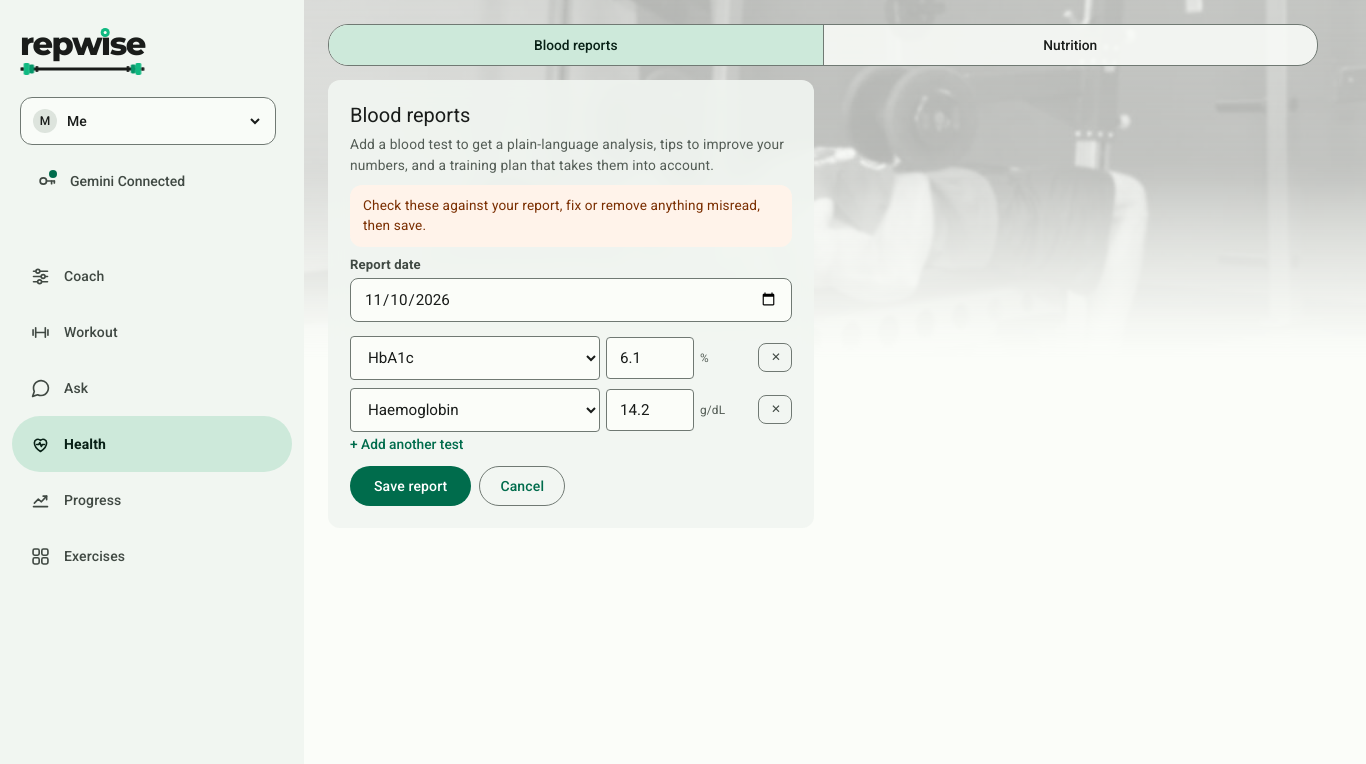
Health tab › upload a PDF, review it, then run the AI analysis; results and doctor questions are saved with the report
The width and height of the screenshot is (1366, 764).
Earlier steps of the test are not shown.
Expected: the text "Check these against your report" is shown, [363, 197, 760, 233]
Click the button "Save report" at (411, 486), box [350, 466, 471, 506]
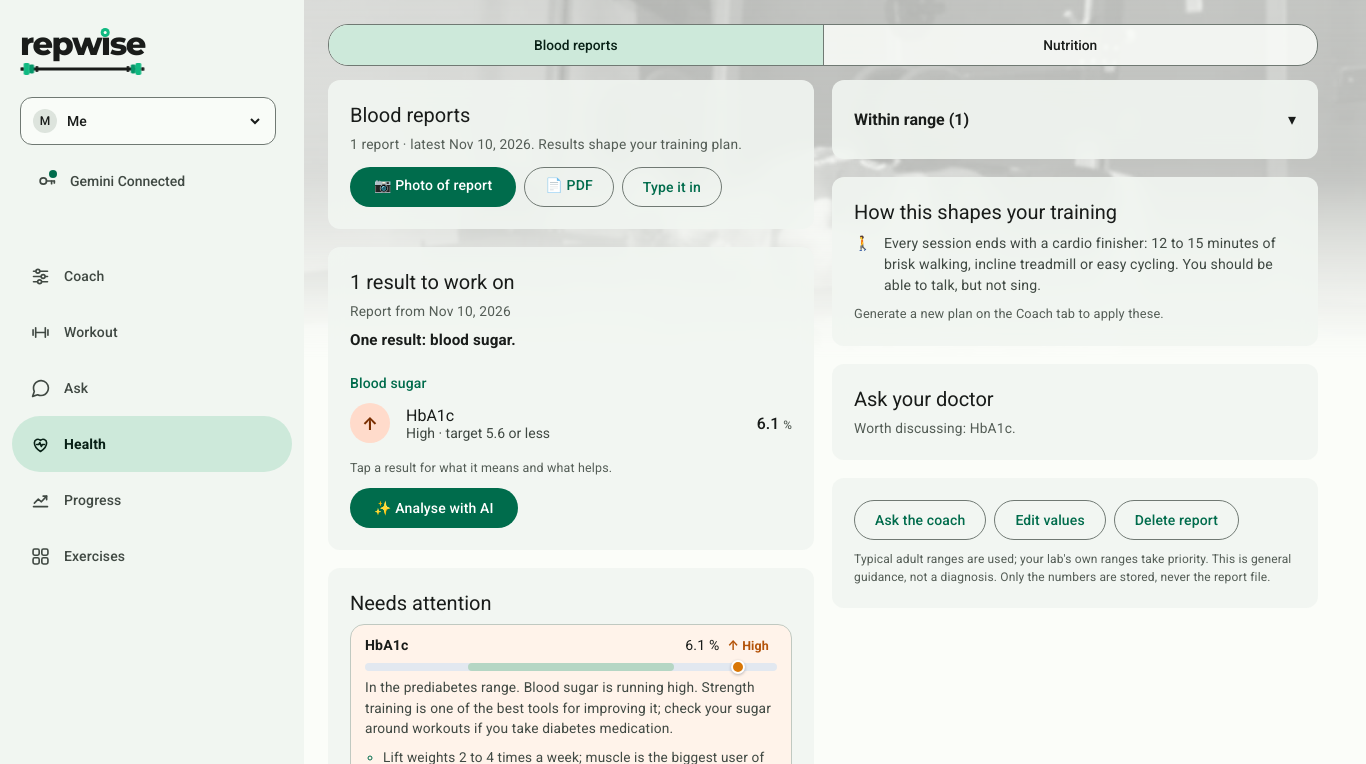
Click the button "✨ Analyse with AI" at (434, 508), box [350, 488, 518, 528]
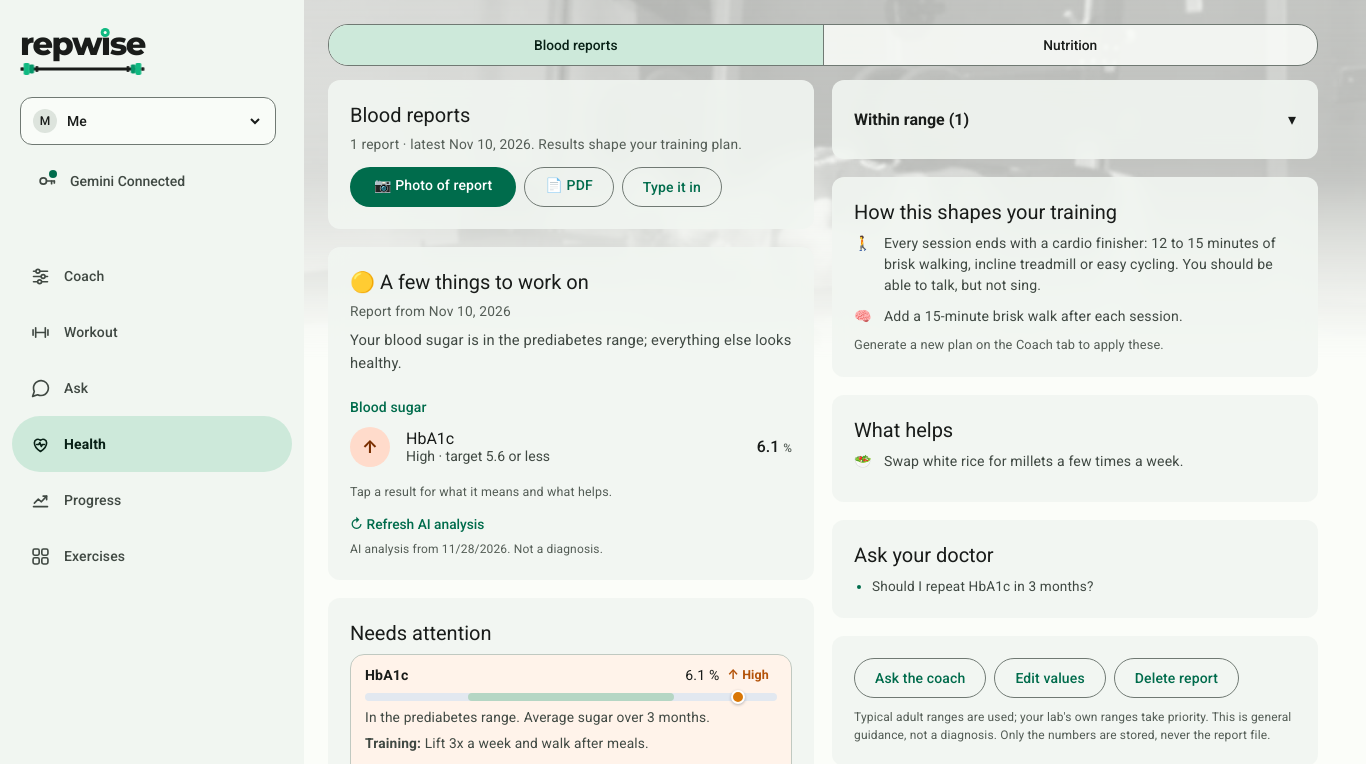
Result: the text "prediabetes range; everything else" is shown at [350, 331, 792, 372]
Result: the text "Swap white rice for millets a few times a week." is shown at [884, 453, 1184, 469]
Result: the list item "Should I repeat HbA1c in 3 months?" is shown at [872, 578, 1094, 594]
